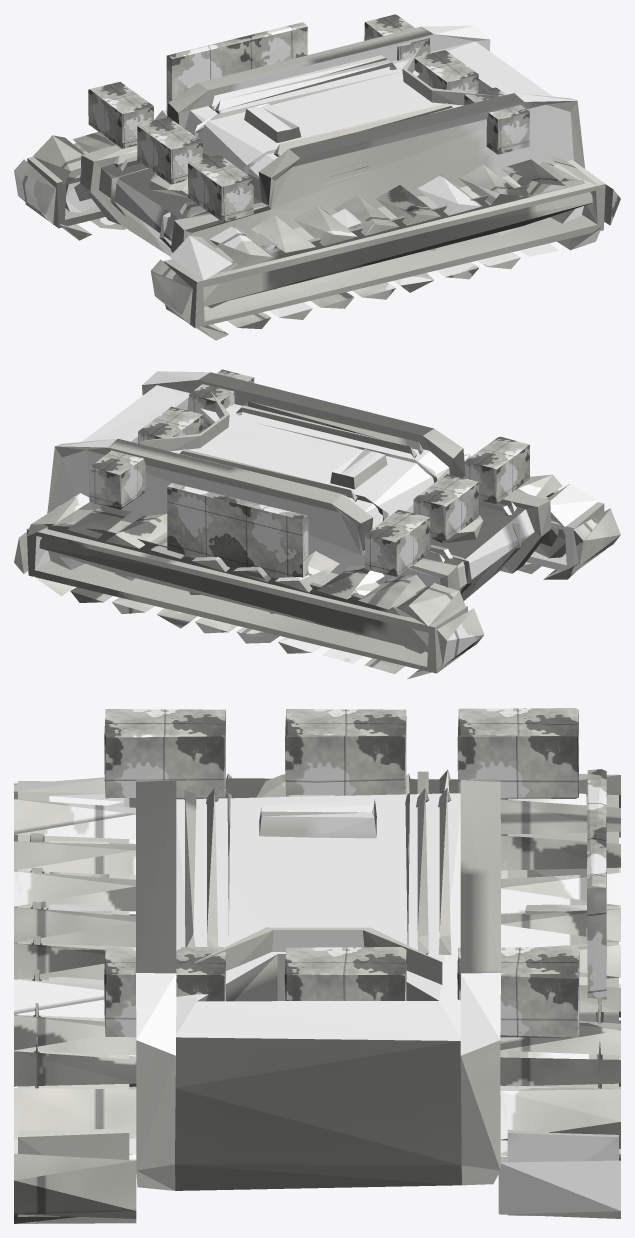
File: light_tank_body_lod.glb
The picture shows the model from 3 angles, top to bottom: view 1: azimuth 30°, elevation 25°; view 2: azimuth 150°, elevation 25°; view 3: azimuth 270°, elevation 25°; orthographic projection. The views are drawn at different scales.
Parts seen in each view (by area): view 1: light_tank_body_lod; view 2: light_tank_body_lod; view 3: light_tank_body_lod.
Boxes of the visible parts, bbox=[...] form: light_tank_body_lod: bbox=[14, 14, 620, 340]; light_tank_body_lod: bbox=[14, 369, 620, 679]; light_tank_body_lod: bbox=[14, 708, 620, 1223].
Bounding box in the file's own units: 3.08 × 0.9144 × 2.08.
1 material, 1 textured.
